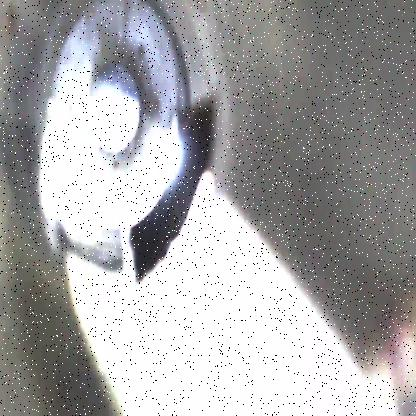Crack2: (114, 91, 222, 293)
